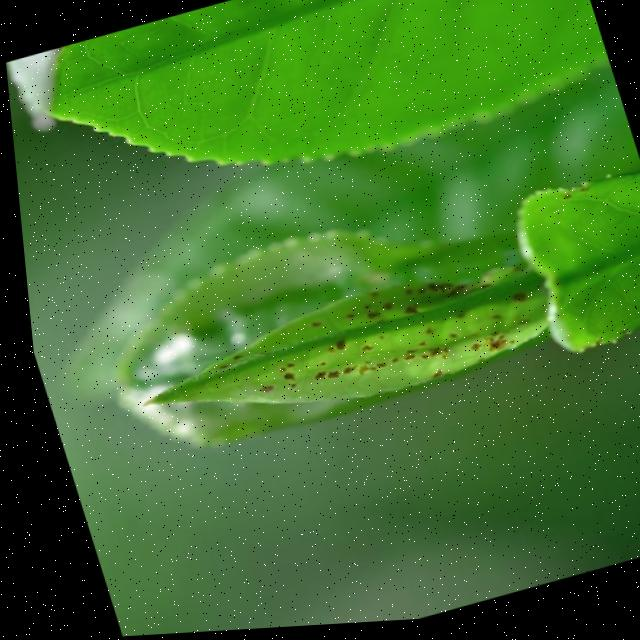Tea red scab: (164, 259, 526, 443)
